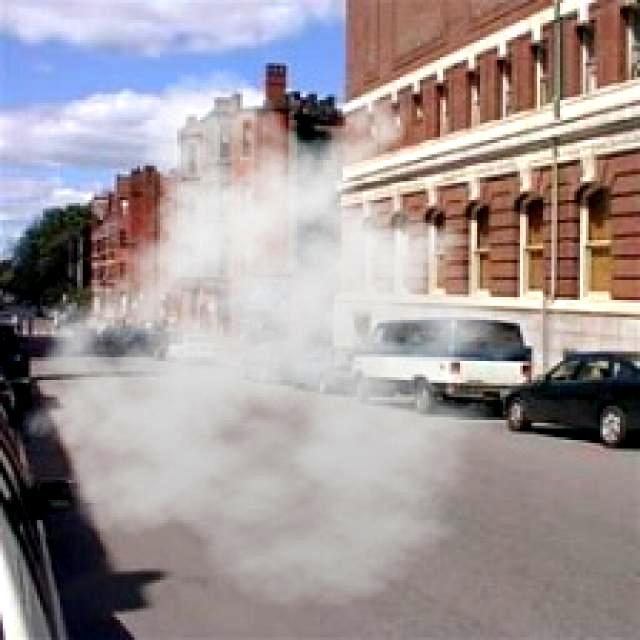Smoke: (9, 66, 554, 609)
